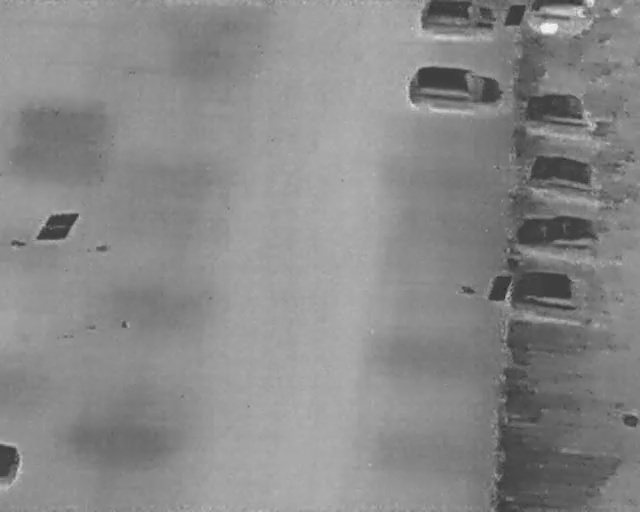Car: (507, 263, 611, 332), (404, 59, 506, 119), (520, 147, 616, 202), (515, 210, 612, 259), (522, 87, 616, 137), (416, 0, 498, 35), (0, 442, 24, 489)
